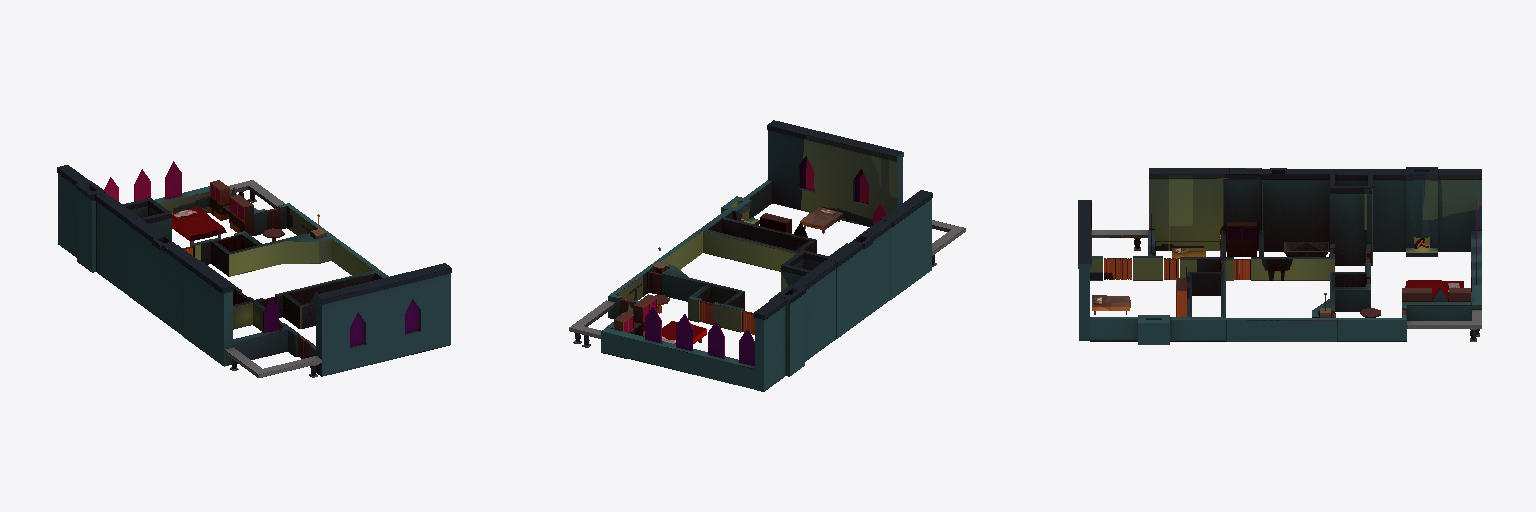
The picture shows the model from 3 angles: view 1: azimuth 30°, elevation 25°; view 2: azimuth 150°, elevation 25°; view 3: azimuth 270°, elevation 25°; orthographic projection.
Visible parts, largest first — view 1: Proto_Wall_Small.041_Cube.623; view 2: Proto_Wall_Small.041_Cube.623; view 3: Proto_Wall_Small.041_Cube.623.
Part boxes in pixels (left/top/right/bottom): Proto_Wall_Small.041_Cube.623: left=57, top=161, right=451, bottom=377; Proto_Wall_Small.041_Cube.623: left=569, top=120, right=965, bottom=391; Proto_Wall_Small.041_Cube.623: left=1078, top=167, right=1481, bottom=344.
Size of the model in its own units: 8.15 by 3.01 by 13.98.
Materials: 27 (1 with a texture image).